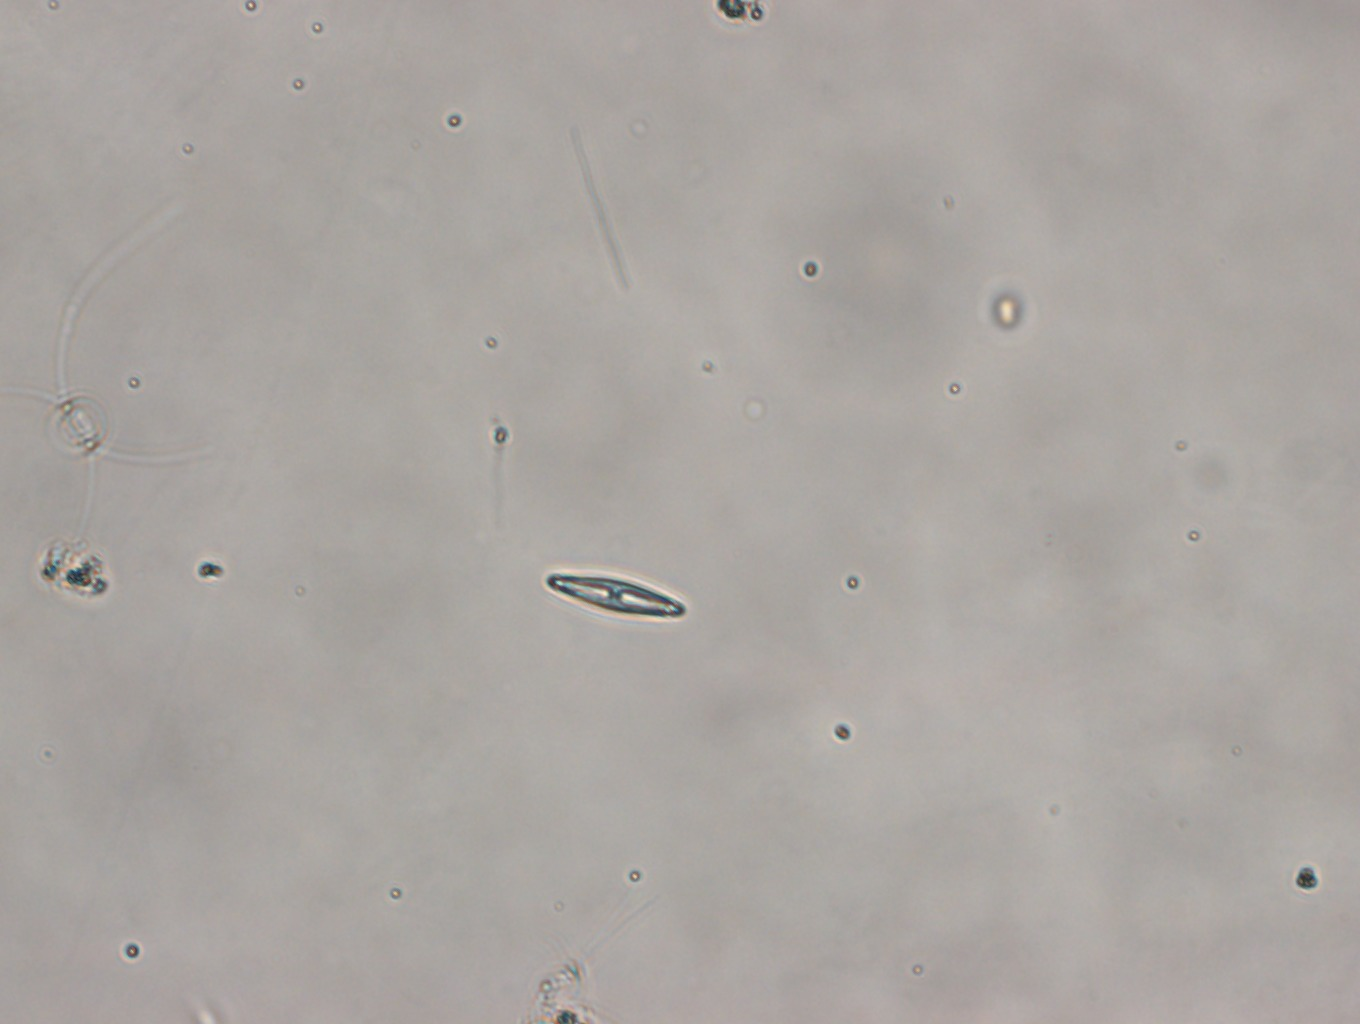navicula: (545, 572, 687, 618)
